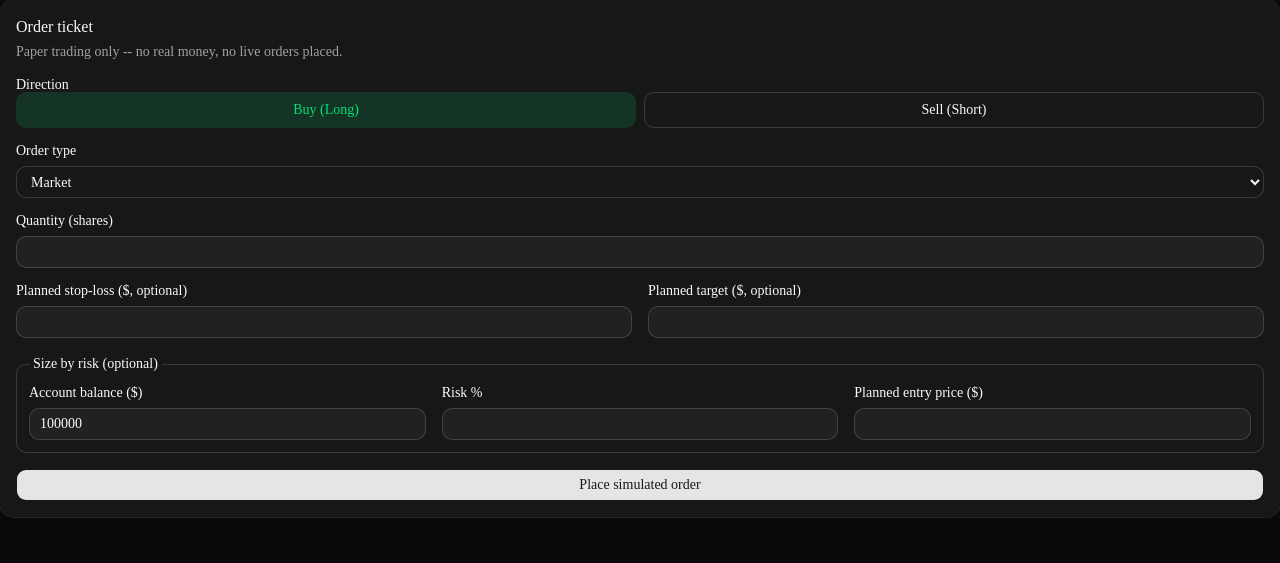
it: OrderTicket -- inline validation errors › requires a quantity
Click the button "Place simulated order".
click(640, 485)  # box [16,469,1264,501]
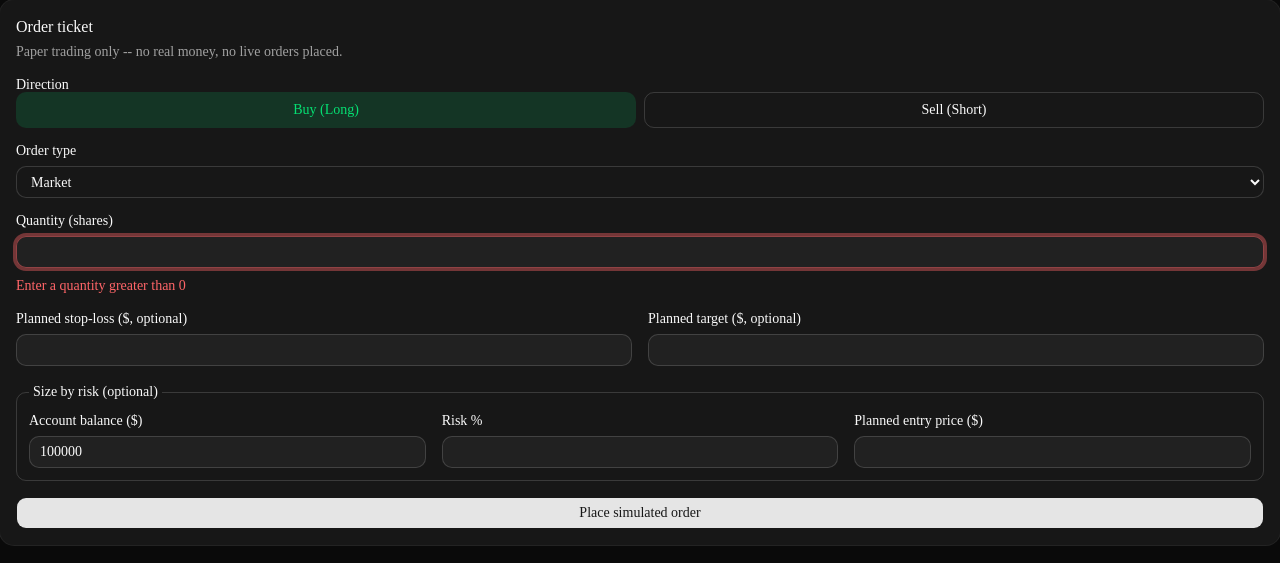
Expected: the text "Enter a quantity greater than 0" is shown, [16,278,186,293]
